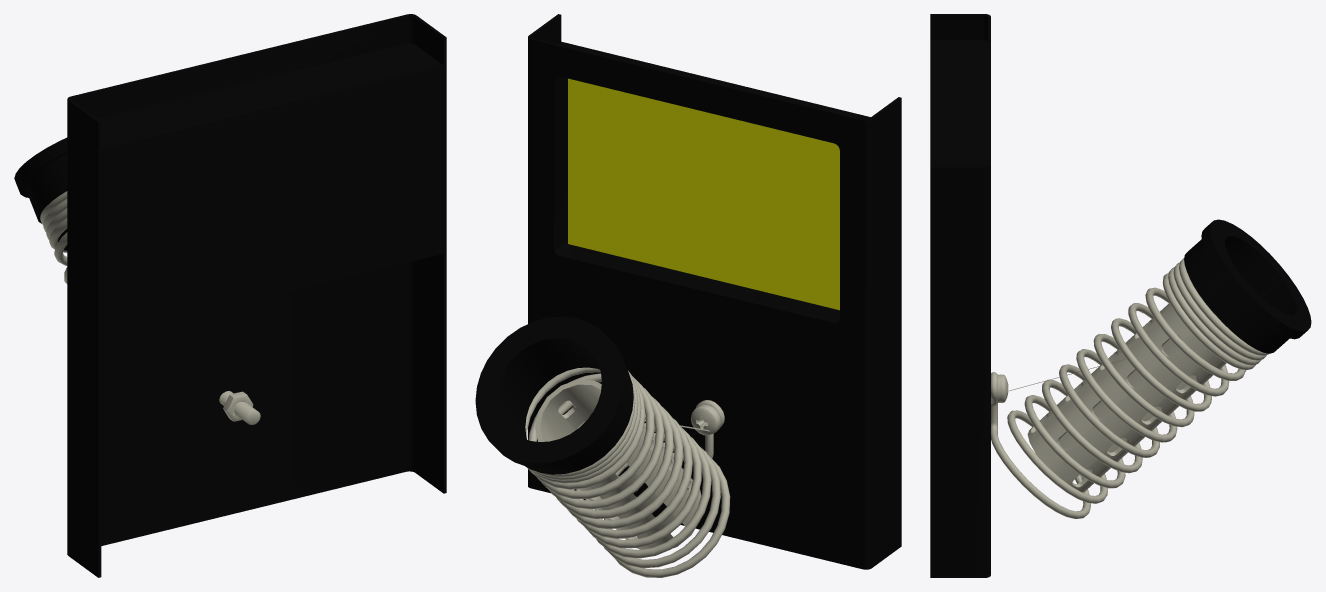
The model's file is cabina-cautil.fbx.
The picture shows the model from 3 angles, left to right: view 1: azimuth 30°, elevation 25°; view 2: azimuth 150°, elevation 25°; view 3: azimuth 270°, elevation 25°; orthographic projection. The views are drawn at different scales.
Visible parts, largest first — view 1: 10023106; view 2: 10023106; view 3: 10023106.
Part boxes in pixels (<box>): 10023106: <box>14,14,446,577</box>; 10023106: <box>475,14,901,577</box>; 10023106: <box>930,14,1311,577</box>.
Bounding box in the file's own units: 12 × 15.3 × 12.61.
